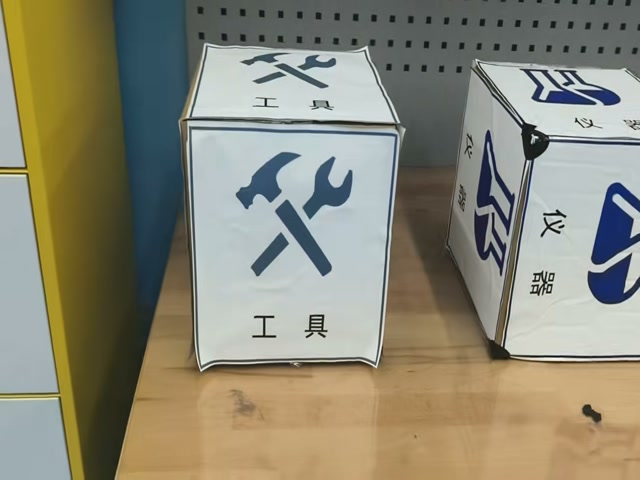Cube_ins: (474, 63, 640, 145)
Cube_tool: (181, 50, 402, 136)
